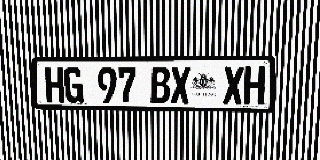7: (117, 67, 137, 103)
9: (97, 67, 117, 103)
B: (150, 67, 170, 104)
G: (64, 67, 84, 103)
H: (244, 67, 265, 104), (44, 67, 65, 103)
X: (223, 67, 244, 104), (171, 67, 190, 104)
